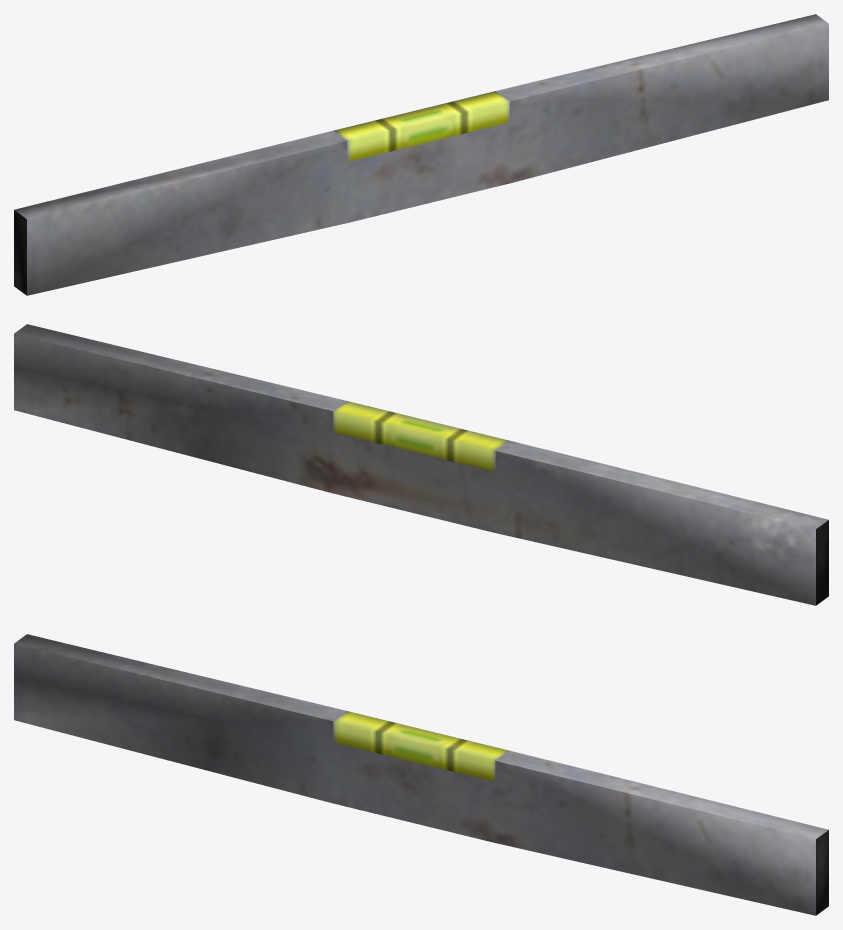
File: M_Home_Garden_Decagramme.fbx
3 renders of one model, top to bottom at view 1: azimuth 30°, elevation 25°; view 2: azimuth 150°, elevation 25°; view 3: azimuth 330°, elevation 25°, orthographic.
Visible parts, largest first — view 1: M_Home_Garden_Decagramme; view 2: M_Home_Garden_Decagramme; view 3: M_Home_Garden_Decagramme.
Part boxes in pixels (bbox=[...]): M_Home_Garden_Decagramme: bbox=[14, 14, 828, 295]; M_Home_Garden_Decagramme: bbox=[14, 324, 828, 605]; M_Home_Garden_Decagramme: bbox=[14, 634, 828, 915].
Size of the model in its own units: 86.86 by 8.37 by 3.15.
